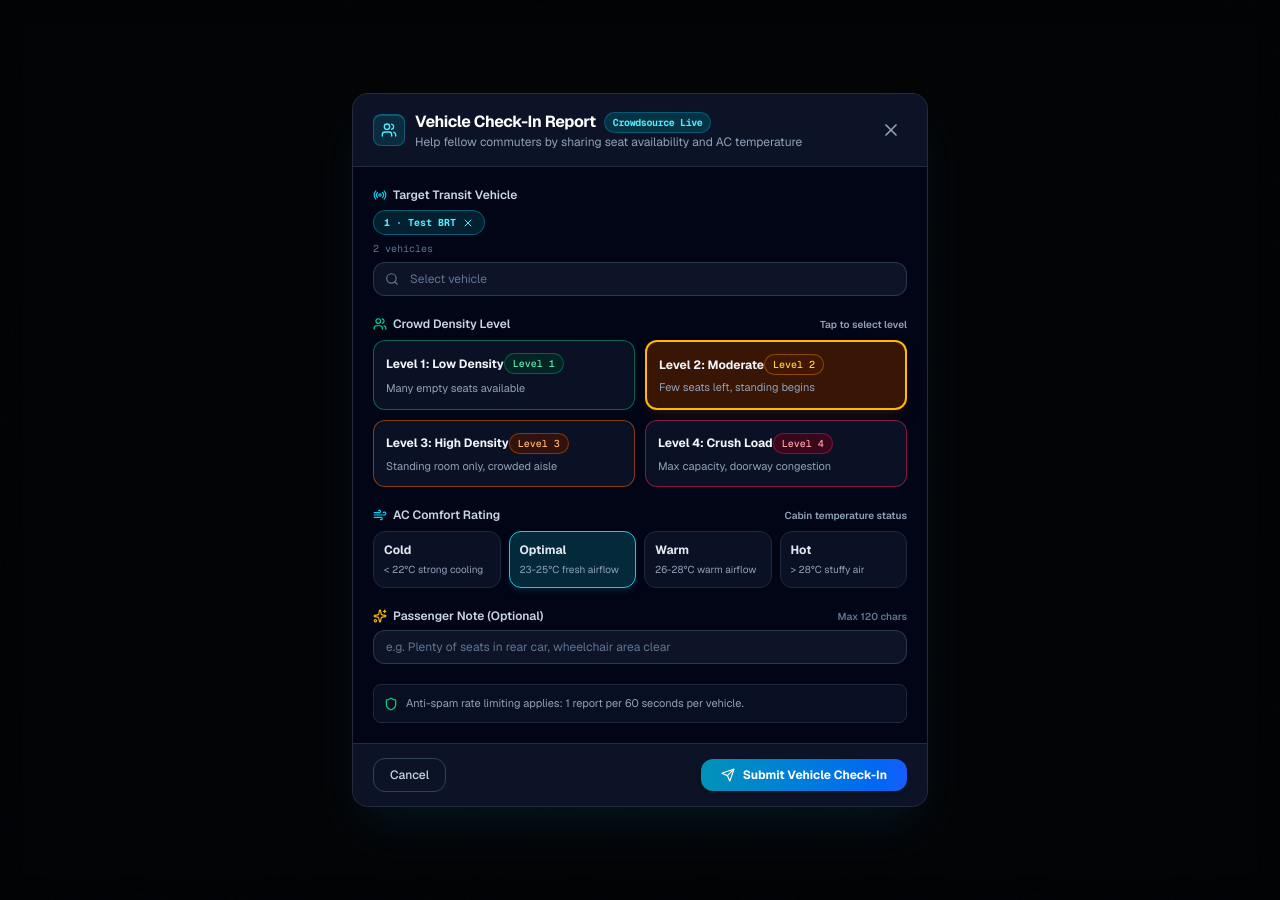
Test: crowd vehicle combobox › filters on type and selects by pointer with echo
Expected: the dialog is shown, 352,93 -> 928,807
In the dropdown labelled "Target Transit Vehicle": (640, 279) 373,262 -> 907,296, type "dua"
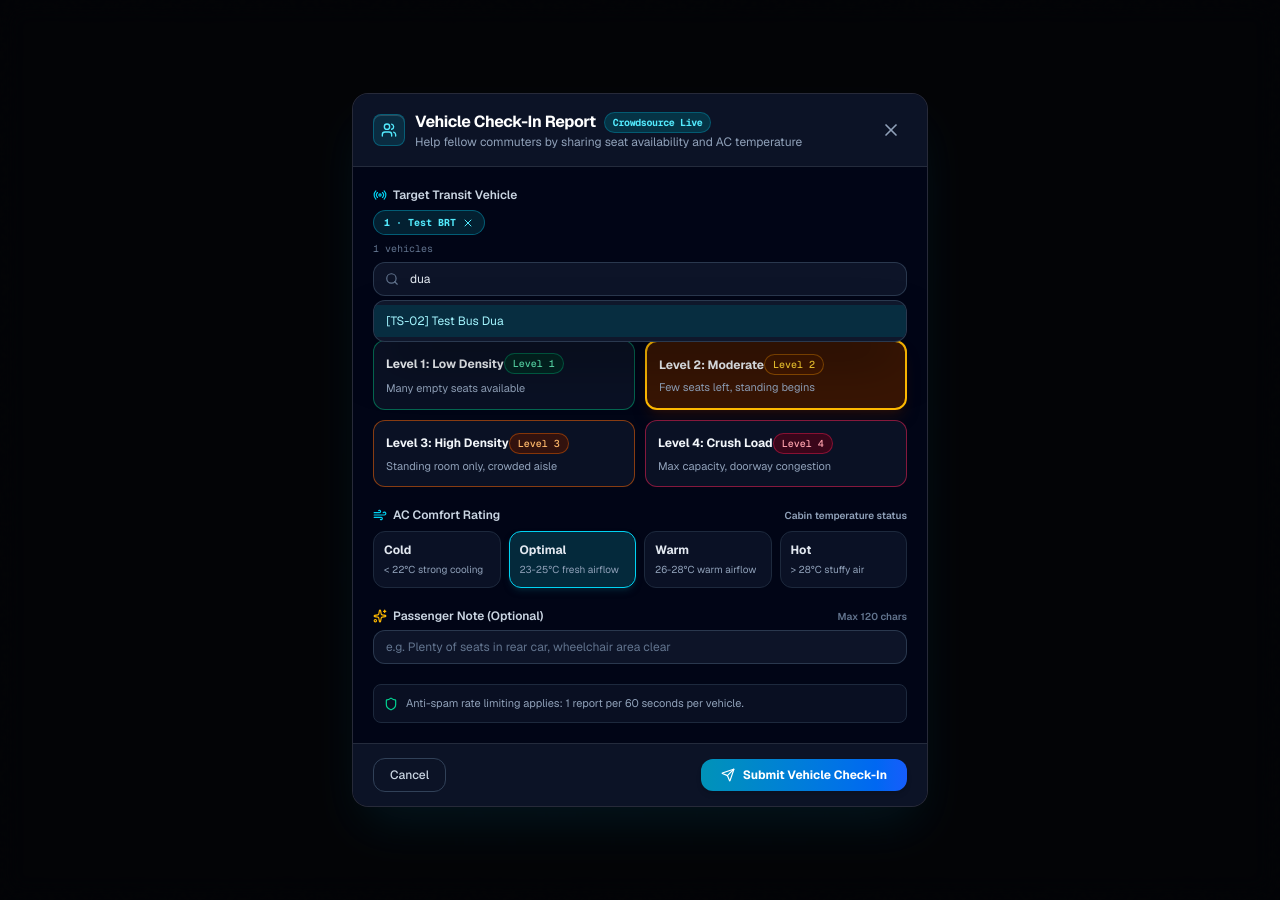
Now the text "1 vehicles" is shown, box 373,242 -> 433,255
Click the option "[TS-02] Test Bus Dua": (408, 321) 374,305 -> 906,337
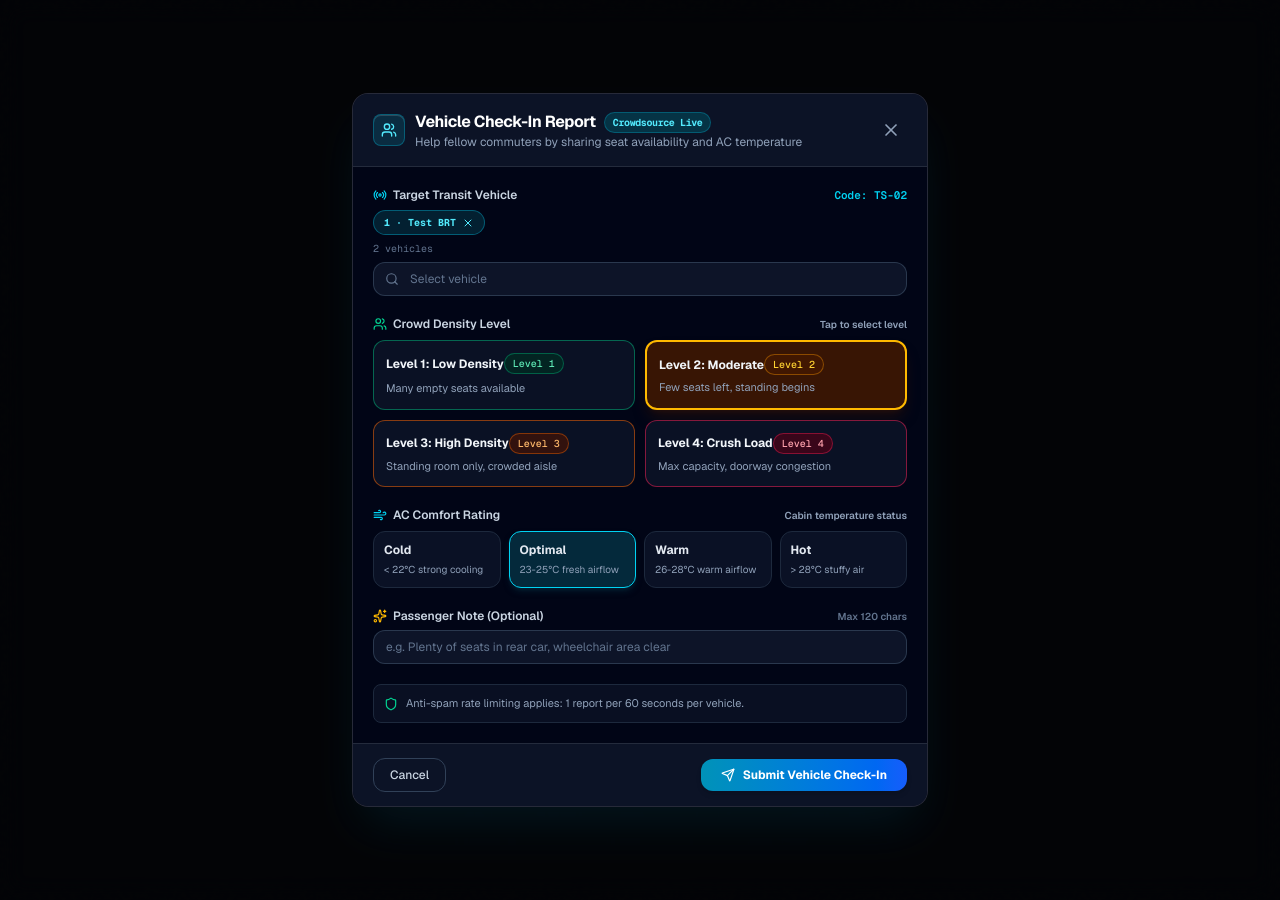
Now the list is gone
Now the text "Code: TS-02" is shown, box 834,188 -> 907,203
Click the button "Submit Vehicle Check-In": (804, 775) 701,759 -> 907,791
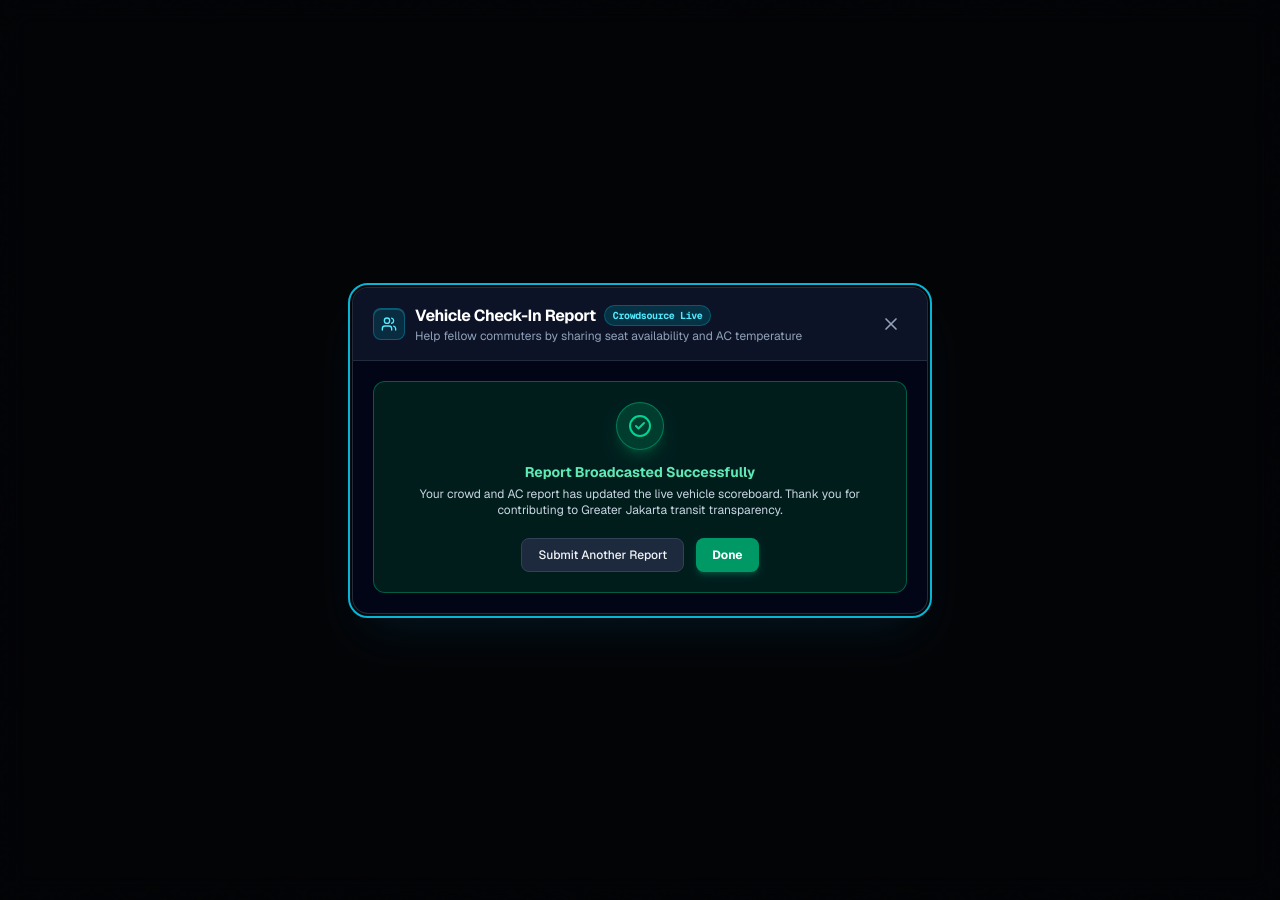
Now the heading "Report Broadcasted Successfully" is shown, box 525,462 -> 755,480
